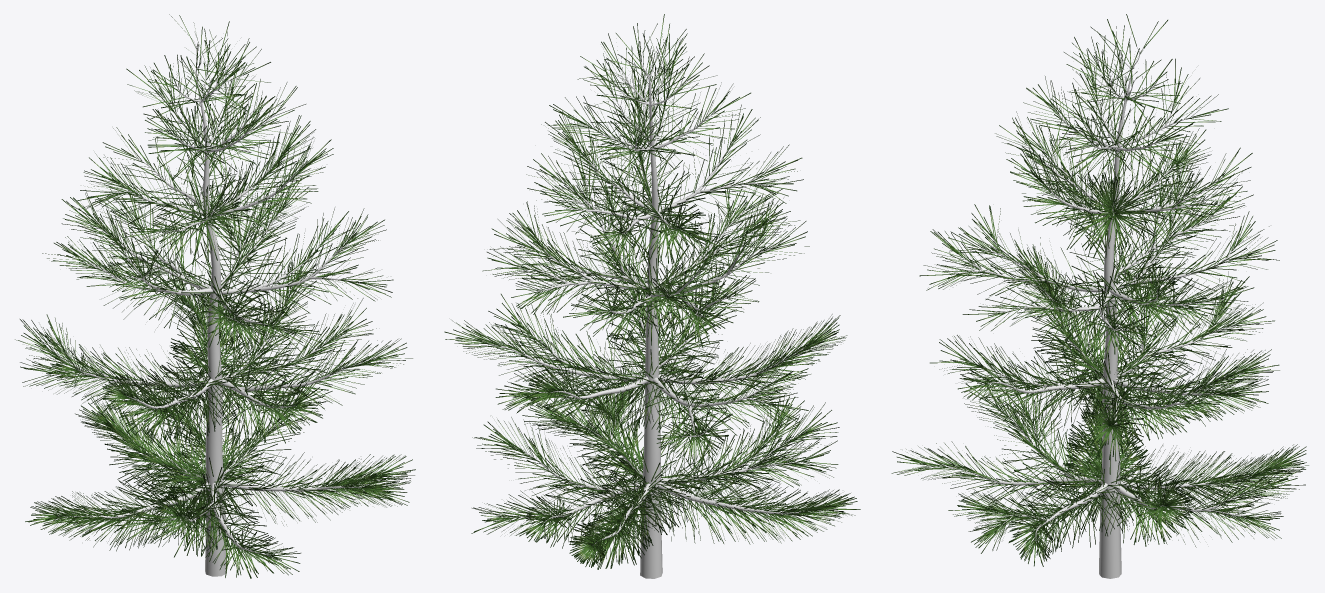
3 renders of one model, left to right at view 1: azimuth 30°, elevation 25°; view 2: azimuth 150°, elevation 25°; view 3: azimuth 270°, elevation 25°, orthographic. The views are drawn at different scales.
Parts seen in each view (by area): view 1: leaves.004, tree.004; view 2: leaves.004, tree.004; view 3: leaves.004, tree.004.
Part boxes in pixels (bbox=[...]): leaves.004: bbox=[15, 14, 415, 578]; tree.004: bbox=[55, 41, 381, 576]; leaves.004: bbox=[444, 14, 860, 569]; tree.004: bbox=[482, 49, 805, 578]; leaves.004: bbox=[891, 14, 1308, 566]; tree.004: bbox=[940, 46, 1270, 578].
Bounding box in the file's own units: 356 × 523 × 362.
